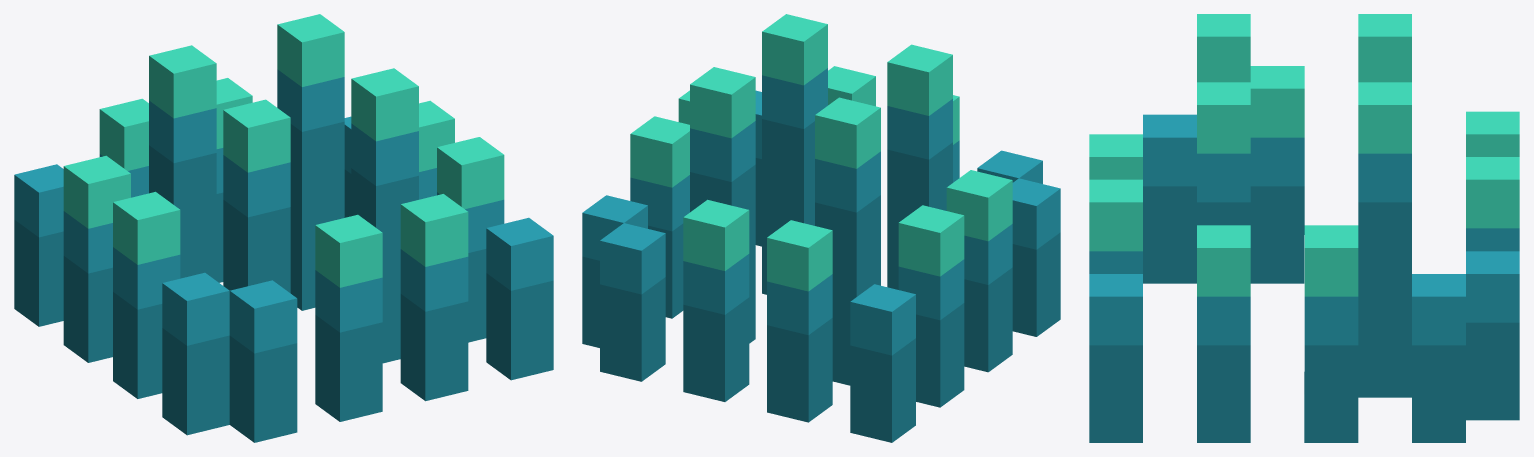
Rendered from Spikes_Diamond.glb.
3 views of the same model, side by side, from view 1: azimuth 30°, elevation 25°; view 2: azimuth 150°, elevation 25°; view 3: azimuth 270°, elevation 25° (orthographic). The views are drawn at different scales.
Visible parts, largest first — view 1: Untitled.001; view 2: Untitled.001; view 3: Untitled.001.
Boxes of the visible parts, x1=… form: Untitled.001: x1=14, y1=14, x2=553, y2=442; Untitled.001: x1=582, y1=14, x2=1060, y2=442; Untitled.001: x1=1089, y1=14, x2=1519, y2=442.
Size of the model in its own units: 0.8 by 0.6 by 0.8.
Materials: 1 (1 with a texture image).
